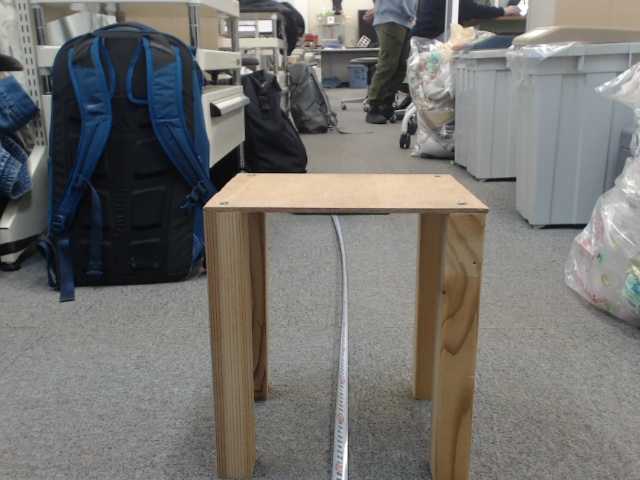desk: (259, 138, 482, 390)
